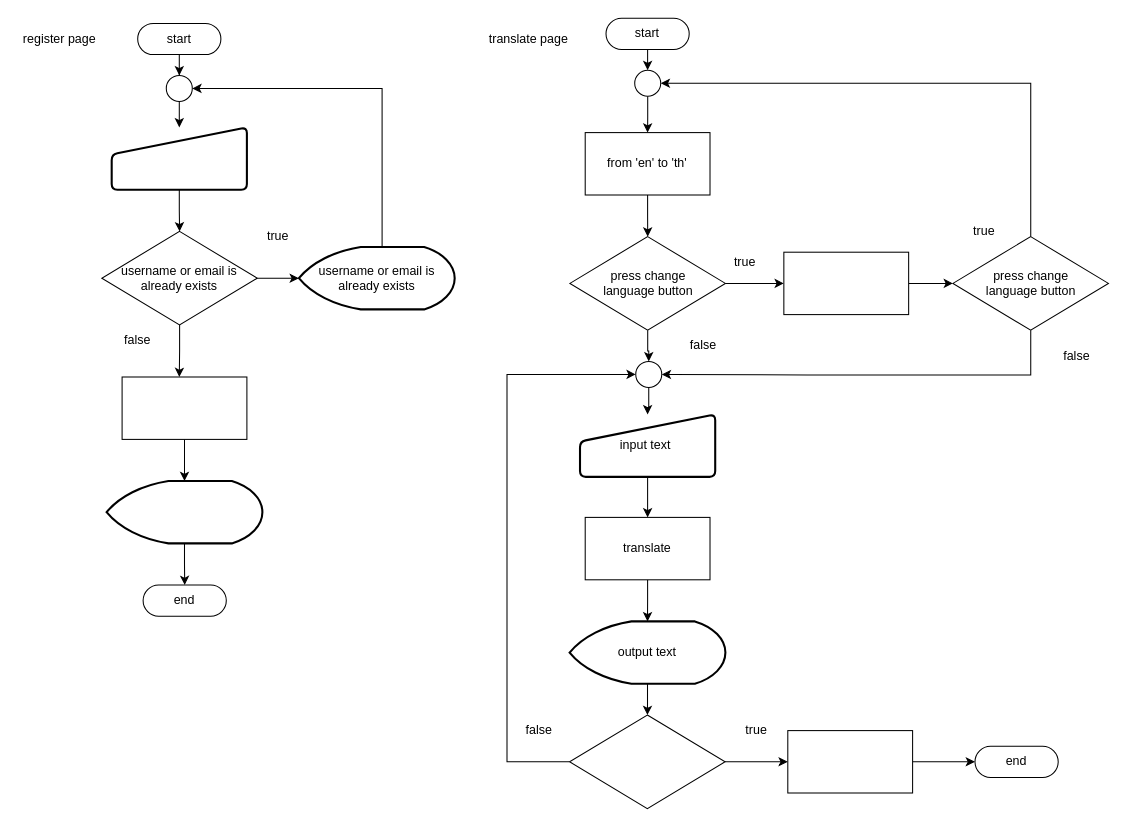
Some shapes in this 1126 by 827 pixel diagram are drawn without their labels. The shapes that lost their labels are listed below. From the top down, each one's centre as x and y in pixels, then its label:
the point at 178,158: username, email and password
the point at 846,283: from 'th' to 'en'
the point at 184,407: create account
the point at 184,511: create account success
the point at 647,761: press save button
the point at 850,761: save output text to database
